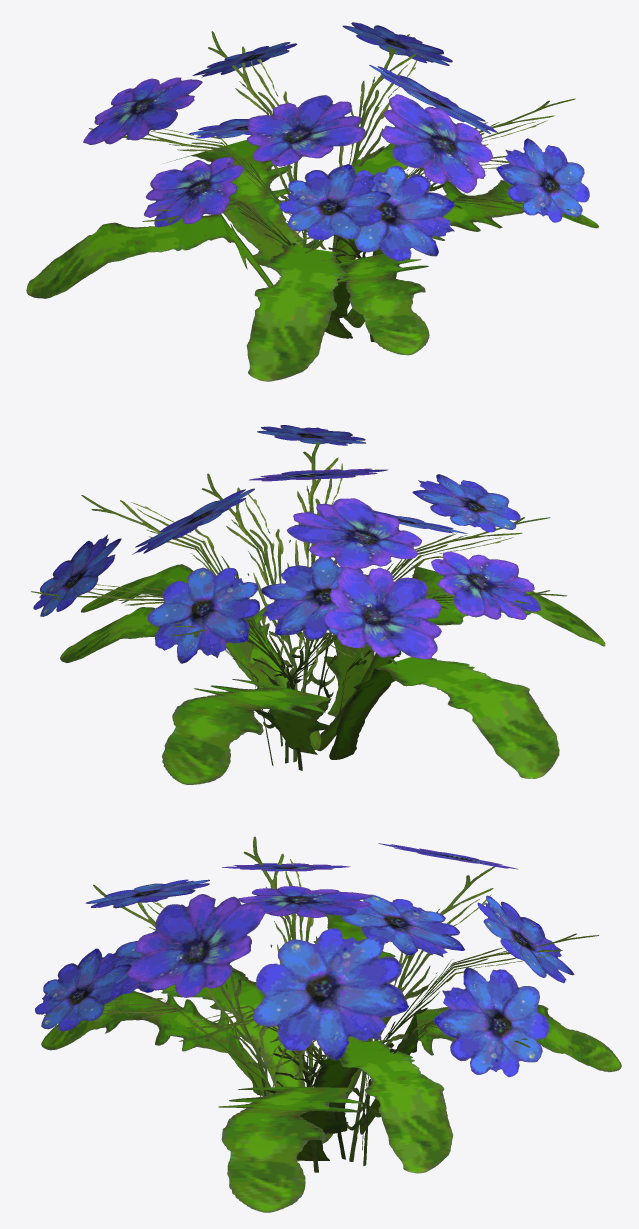
Rendered from Plant_3002_zhiwu01_hua12.FBX.
3 renders of one model, top to bottom at view 1: azimuth 30°, elevation 25°; view 2: azimuth 150°, elevation 25°; view 3: azimuth 270°, elevation 25°, orthographic. The views are drawn at different scales.
Visible parts, largest first — view 1: Plant_3002_zhiwu01_hua12; view 2: Plant_3002_zhiwu01_hua12; view 3: Plant_3002_zhiwu01_hua12.
Part boxes in pixels (x1,y1,x2,y2): Plant_3002_zhiwu01_hua12: (26, 22, 598, 381); Plant_3002_zhiwu01_hua12: (31, 425, 605, 784); Plant_3002_zhiwu01_hua12: (35, 836, 621, 1212).
Size of the model in its own units: 137 by 63.54 by 124.
